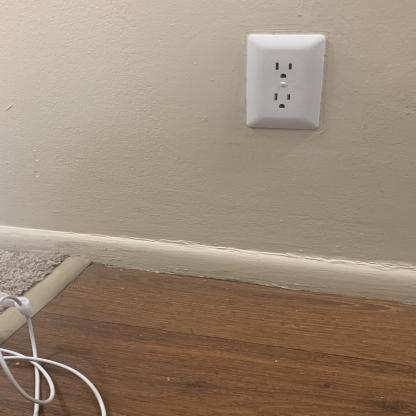OUTLET: (245, 32, 326, 132)
